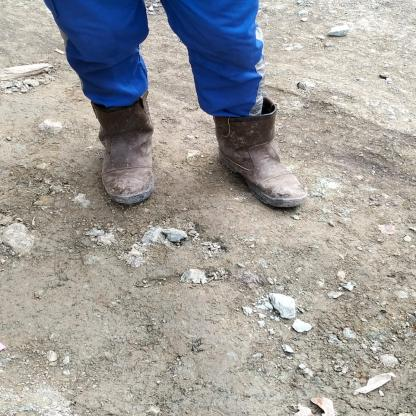bota: (203, 95, 312, 209), (81, 91, 161, 206)
